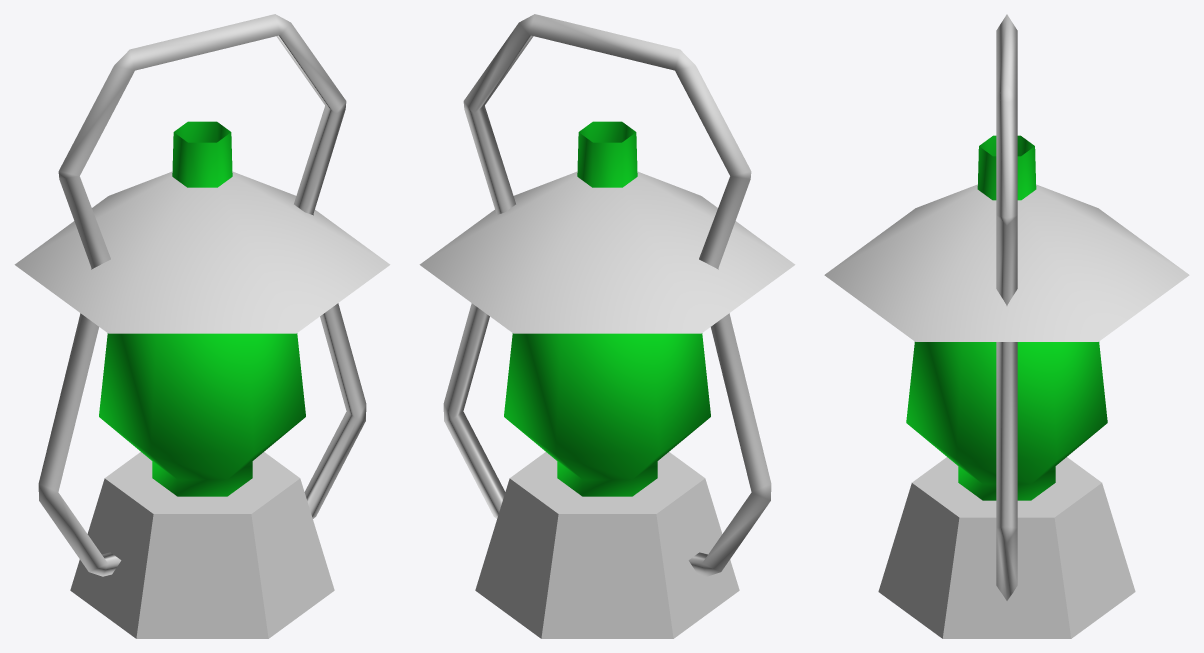
Rendered from Lantern.fbx.
3 views of the same model, side by side, from view 1: azimuth 30°, elevation 25°; view 2: azimuth 150°, elevation 25°; view 3: azimuth 270°, elevation 25° (orthographic). The views are drawn at different scales.
Parts seen in each view (by area): view 1: Lantern; view 2: Lantern; view 3: Lantern.
Part boxes in pixels (x1,y1,x2,y2): Lantern: (14,14,390,638); Lantern: (419,14,795,638); Lantern: (824,14,1189,638).
Size of the model in its own units: 30.04 by 48.94 by 29.85.
